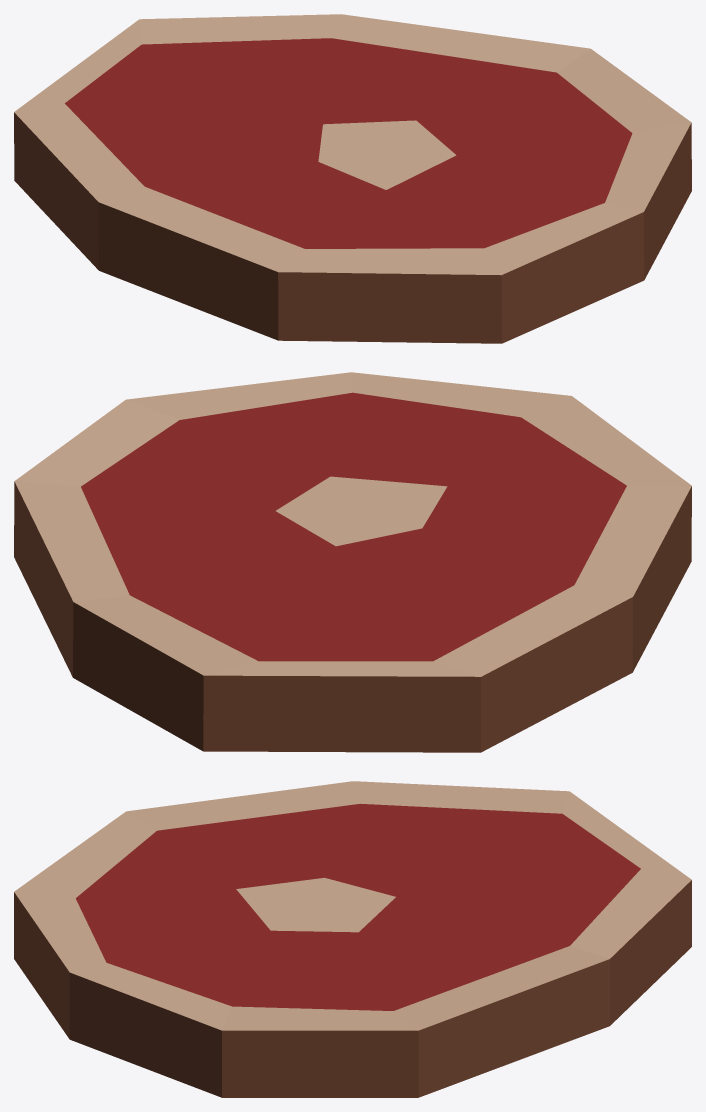
The model's file is meat_white.fbx.
3 views of the same model, one above another, from view 1: azimuth 30°, elevation 25°; view 2: azimuth 150°, elevation 25°; view 3: azimuth 270°, elevation 25° (orthographic). The views are drawn at different scales.
Visible parts, largest first — view 1: meat_white; view 2: meat_white; view 3: meat_white.
Boxes of the visible parts, box(x1,y1,x2,y2) form: meat_white: box(14, 14, 691, 343); meat_white: box(14, 372, 691, 752); meat_white: box(14, 781, 691, 1097).
Bounding box in the file's own units: 24.22 × 3.27 × 27.71.
